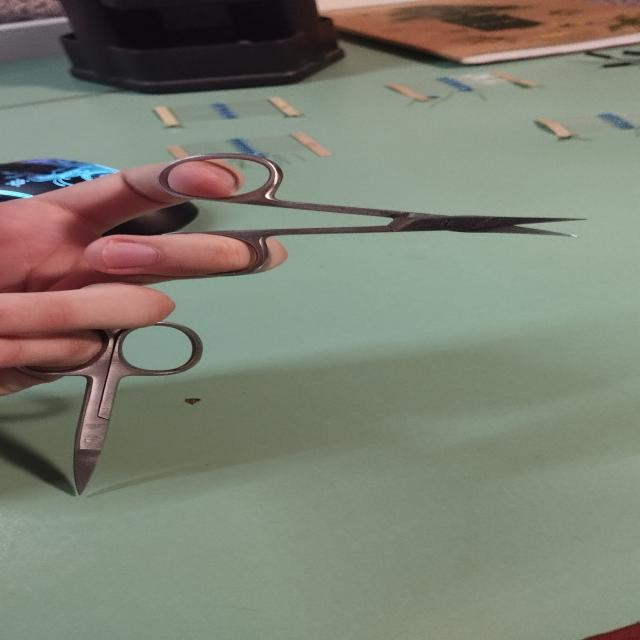tesoura: (138, 151, 592, 279), (9, 319, 214, 500)
